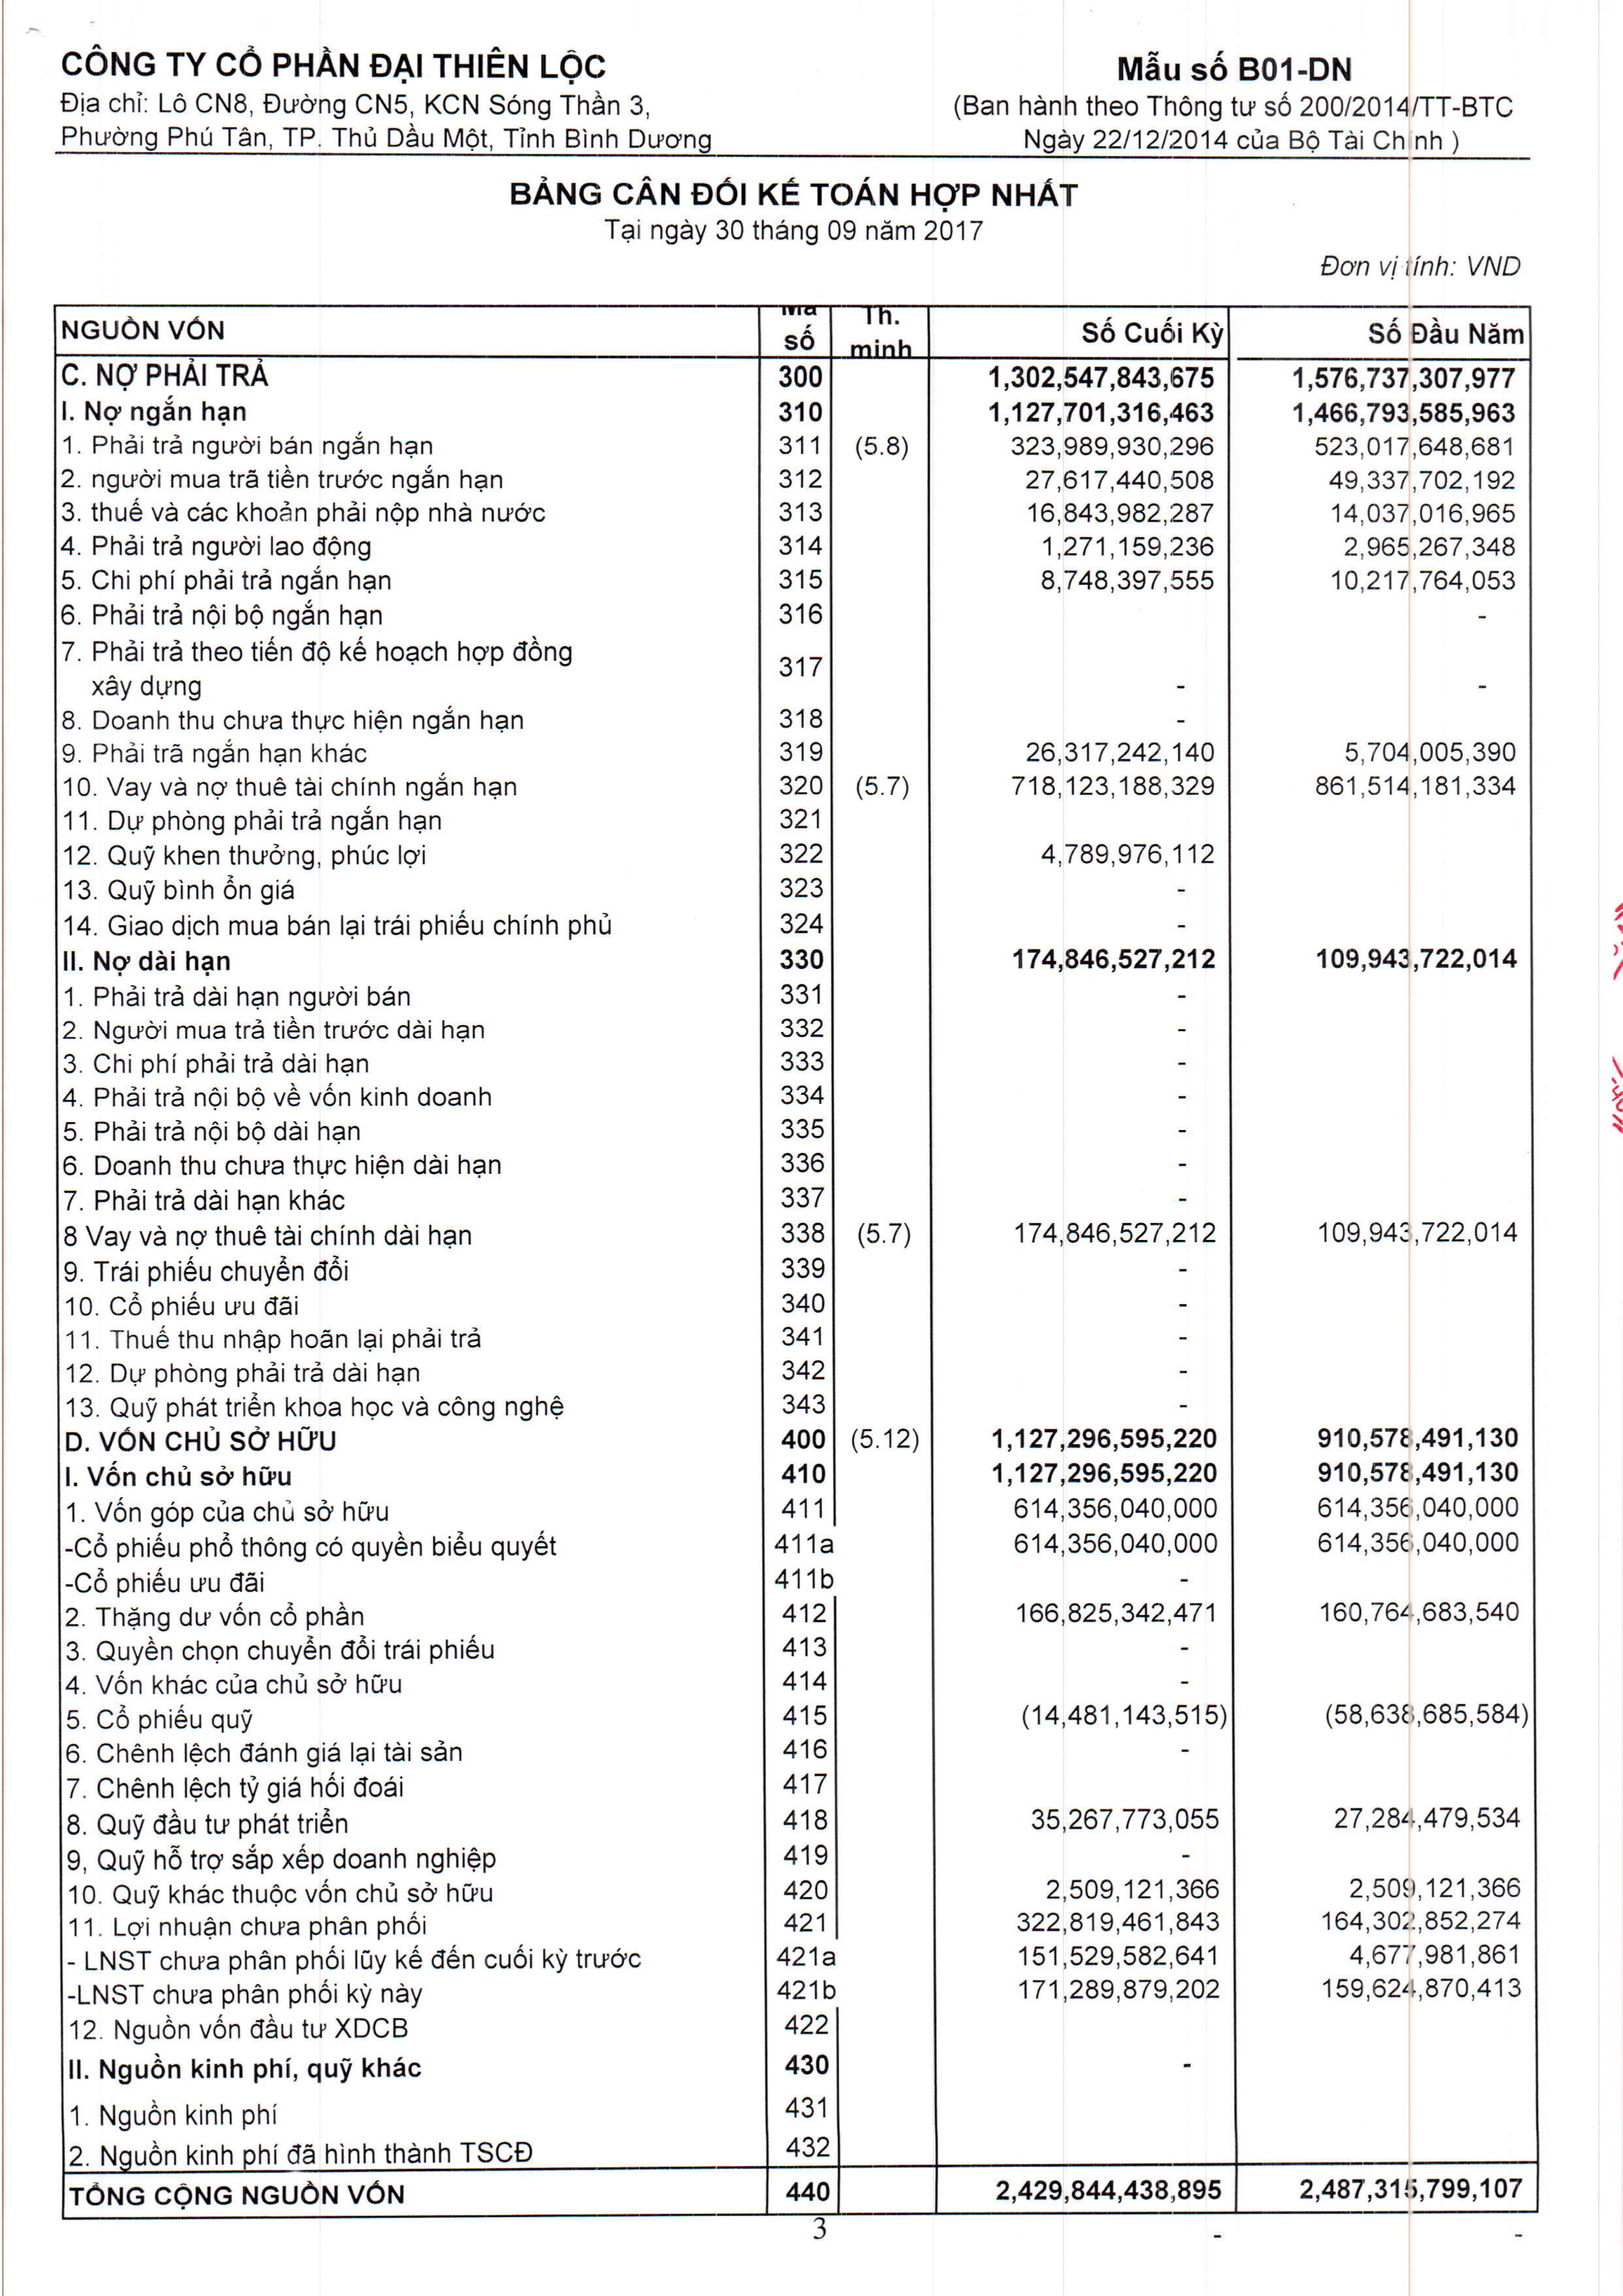table: (44, 288, 1549, 2229)
table column: (61, 288, 715, 2229), (980, 288, 1238, 2229), (1286, 288, 1528, 2229), (852, 288, 931, 2229), (773, 288, 845, 2229)
table column header: (46, 300, 1549, 369)
table row: (44, 312, 1549, 362), (44, 1201, 1549, 1238), (44, 432, 1549, 467), (44, 502, 1549, 537), (44, 537, 1549, 572), (44, 814, 1549, 850), (44, 1345, 1549, 1380), (44, 1624, 1549, 1659), (44, 1694, 1549, 1729), (44, 2098, 1549, 2133), (44, 2138, 1549, 2173), (44, 363, 1549, 397), (44, 398, 1549, 432), (44, 469, 1549, 502), (44, 574, 1549, 607), (44, 709, 1549, 743), (44, 744, 1549, 778), (44, 779, 1549, 813), (44, 851, 1549, 885), (44, 885, 1549, 918), (44, 920, 1549, 953), (44, 992, 1549, 1025), (44, 1029, 1549, 1062), (44, 1064, 1549, 1097), (44, 1130, 1549, 1164), (44, 1166, 1549, 1199), (44, 1309, 1549, 1343), (44, 1448, 1549, 1482), (44, 1485, 1549, 1518), (44, 1520, 1549, 1553), (44, 1555, 1549, 1589), (44, 1589, 1549, 1622), (44, 1799, 1549, 1833), (44, 1836, 1549, 1869), (44, 1871, 1549, 1905), (44, 1977, 1549, 2010), (44, 2054, 1549, 2087), (44, 2175, 1549, 2208), (44, 609, 1549, 641), (44, 676, 1549, 707), (44, 958, 1549, 990), (44, 1239, 1549, 1271), (44, 1274, 1549, 1306), (44, 1381, 1549, 1413), (44, 1415, 1549, 1446), (44, 1661, 1549, 1692), (44, 1731, 1549, 1762), (44, 1766, 1549, 1797), (44, 1941, 1549, 1973), (44, 2013, 1549, 2045), (44, 644, 1549, 674), (44, 1099, 1549, 1129), (44, 1908, 1549, 1938)
